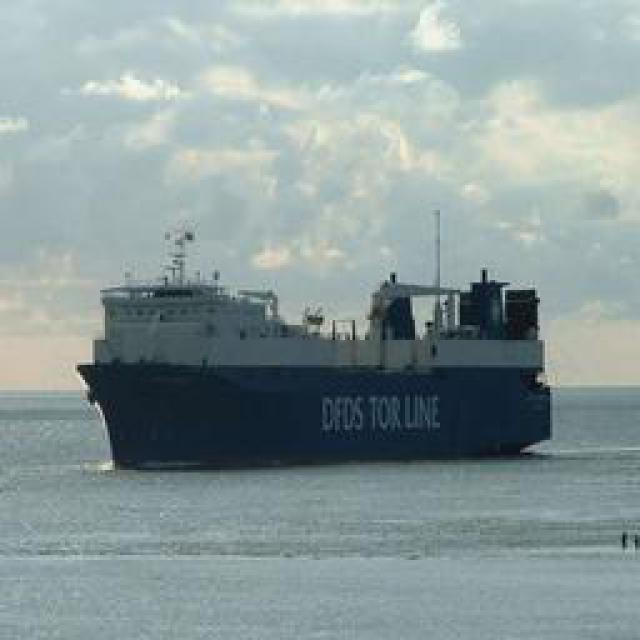Ship: (80, 200, 560, 470)
